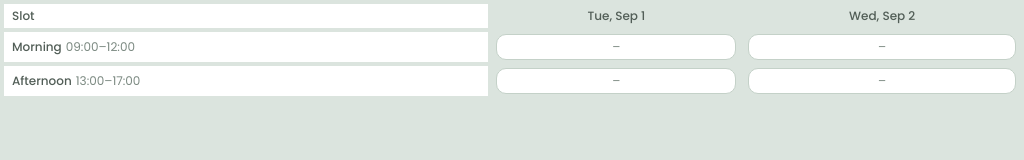
Test: AvailabilityGrid › changes only the cell that was clicked
Click the 1st button "–" at (616, 47), box [496, 34, 736, 60]
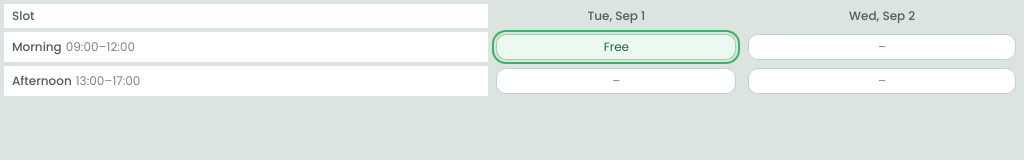
Expected: the button "–" in the row of "Morning" is shown, [748, 34, 1016, 60]
Expected: the button "Free" is shown, [496, 34, 736, 60]
